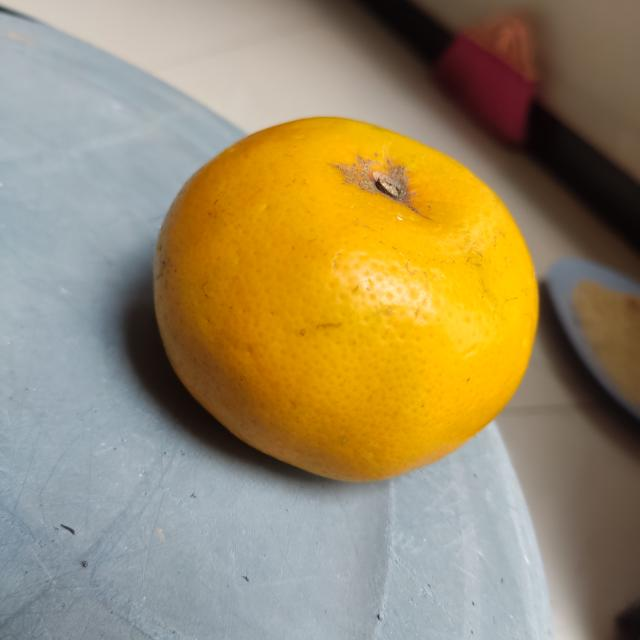orange: (145, 112, 545, 486)
